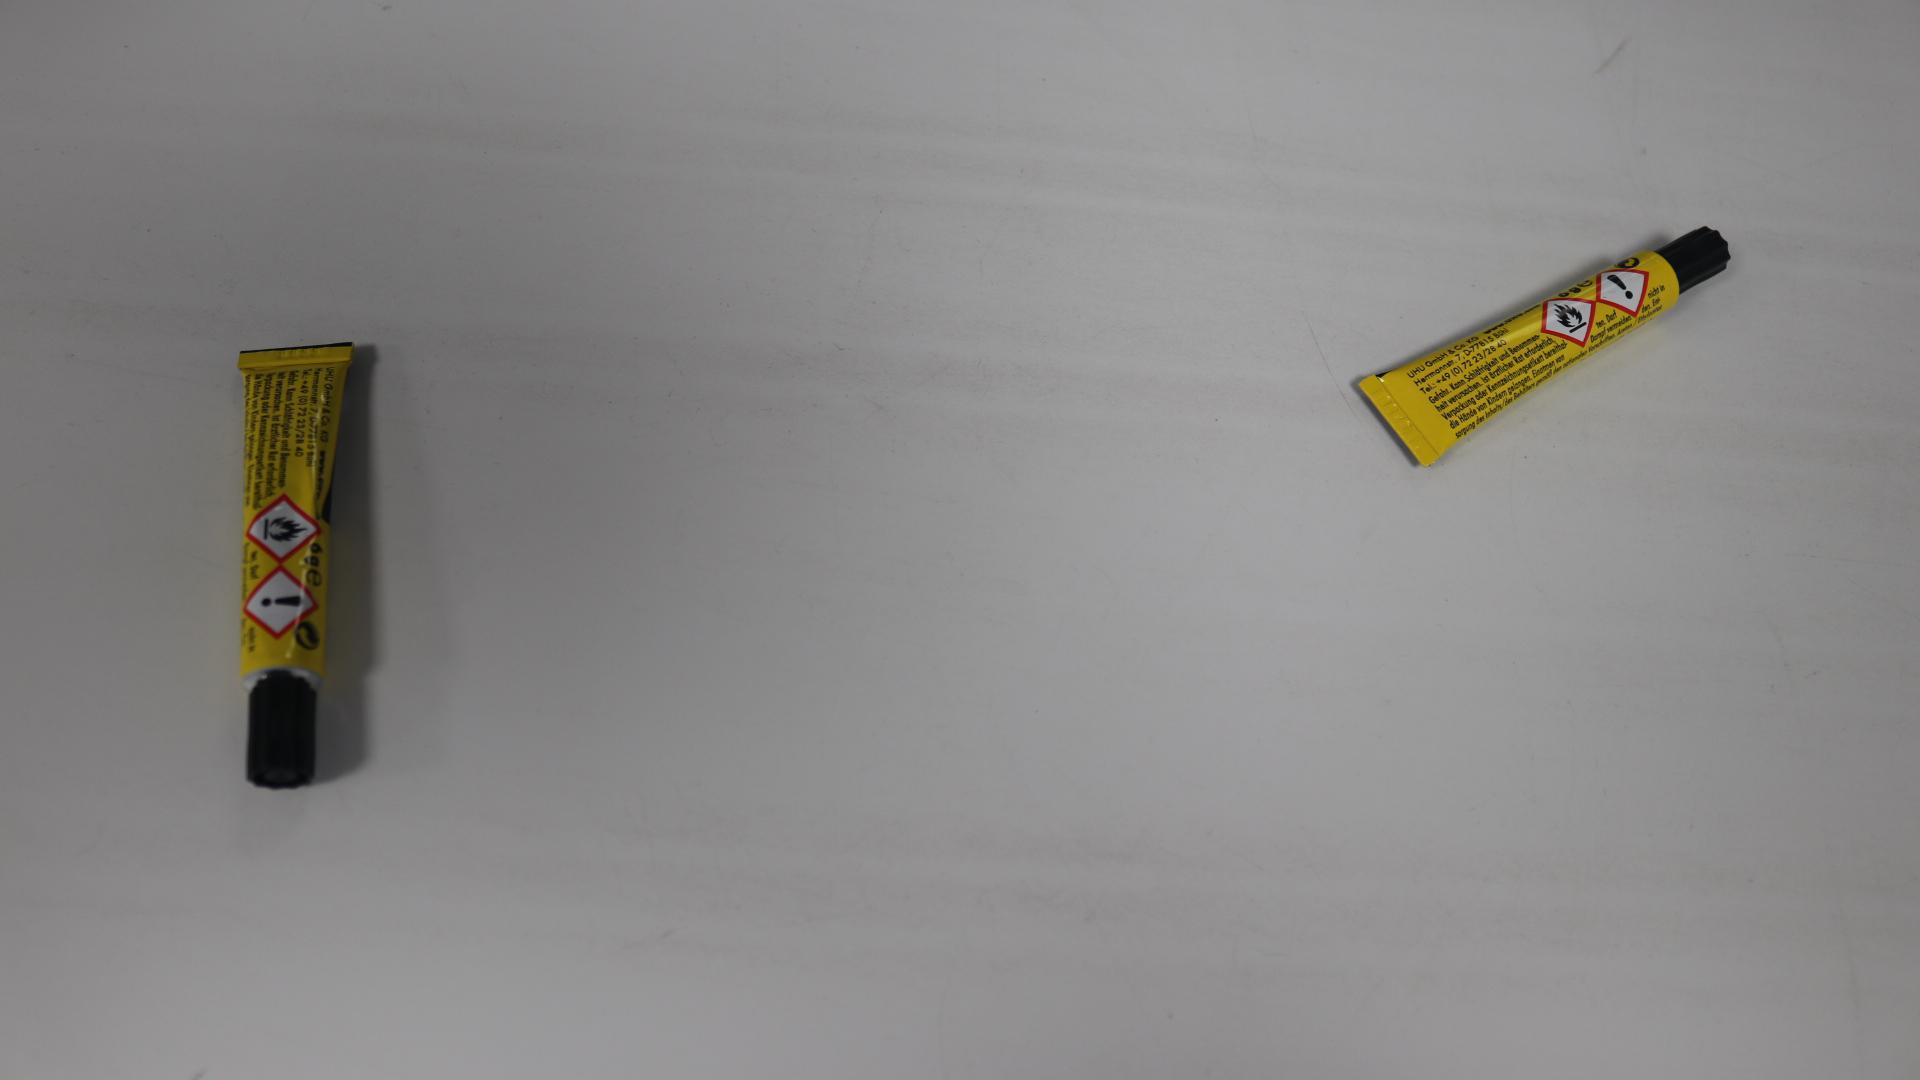Head: (276, 712, 286, 727), (1692, 250, 1700, 258)
Tail: (1391, 413, 1409, 431), (290, 350, 301, 361)
Tube: (1356, 224, 1731, 468), (236, 341, 356, 790)
